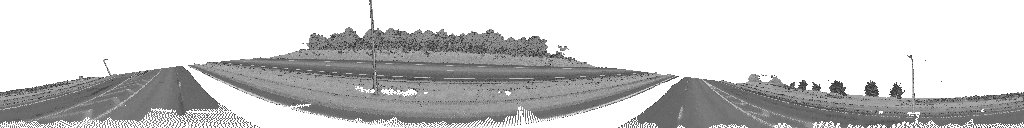light_pole: (369, 38, 380, 94), (907, 55, 915, 99), (103, 59, 111, 74)
